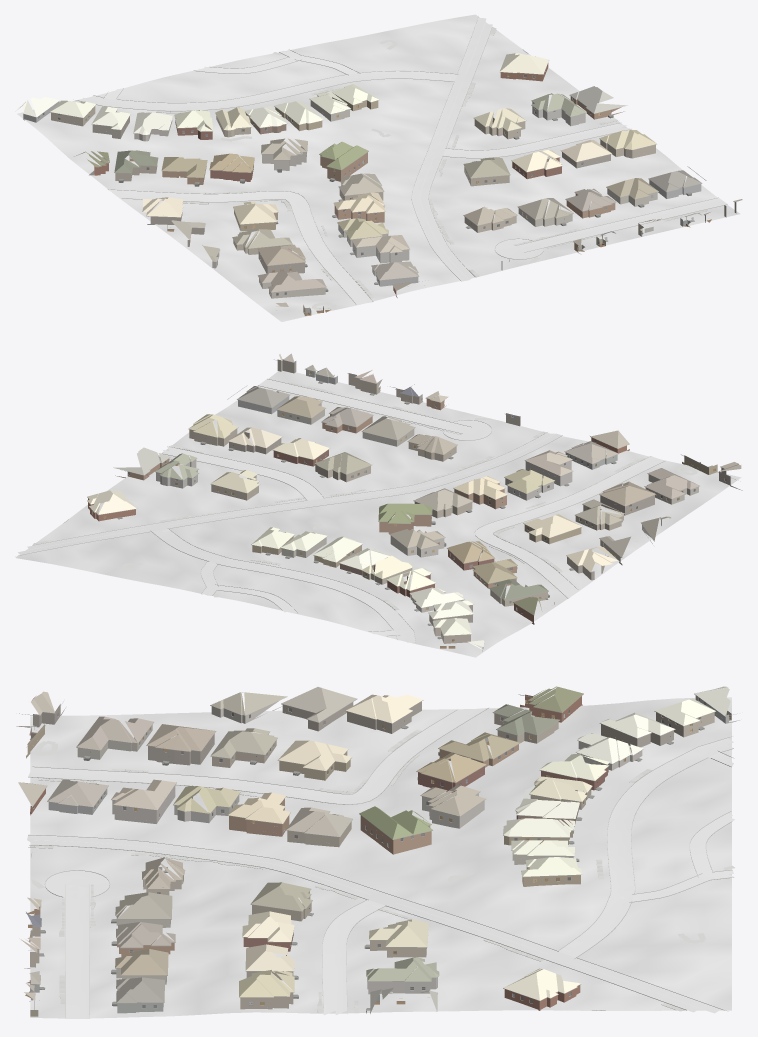
3 views of the same model, one above another, from view 1: azimuth 30°, elevation 25°; view 2: azimuth 150°, elevation 25°; view 3: azimuth 270°, elevation 25° (orthographic). The views are drawn at different scales.
Parts seen in each view (by area): view 1: ground, roof, concrete, wall, asphalt, wall_stucco, curb, detail, walk, wall_stone; view 2: ground, roof, concrete, wall, asphalt, wall_stucco, curb, detail, walk, wall_stone; view 3: ground, roof, concrete, wall, asphalt, wall_stucco, curb, detail, walk, wall_stone, mark_w, mark_y.
Part boxes in pixels (x1,y1,x2,y2): ground: (17,14,739,321); roof: (15,53,742,306); concrete: (80,49,727,304); wall: (92,63,736,315); asphalt: (412,17,492,281); wall_stucco: (23,96,705,298); curb: (76,16,727,304); detail: (23,62,734,312); walk: (156,27,707,309); wall_stone: (338,102,585,263); ground: (15,370,741,657); roof: (87,353,741,649); concrete: (152,379,664,642); wall: (88,359,742,626); asphalt: (18,433,561,554); wall_stucco: (238,369,698,651); curb: (15,378,664,643); detail: (87,359,735,641); walk: (33,382,697,610); wall_stone: (156,459,572,500); ground: (30,697,731,1018); roof: (18,686,730,1013); concrete: (28,708,734,1018); wall: (16,694,673,1010); asphalt: (27,835,720,1013); wall_stucco: (24,695,739,1013); curb: (28,707,734,1018); detail: (19,694,737,1013); walk: (30,729,734,1013); wall_stone: (112,785,437,994); mark_w: (31,835,717,1009); mark_y: (34,840,706,1010).
Size of the model in its own units: 268 by 18.36 by 260.
